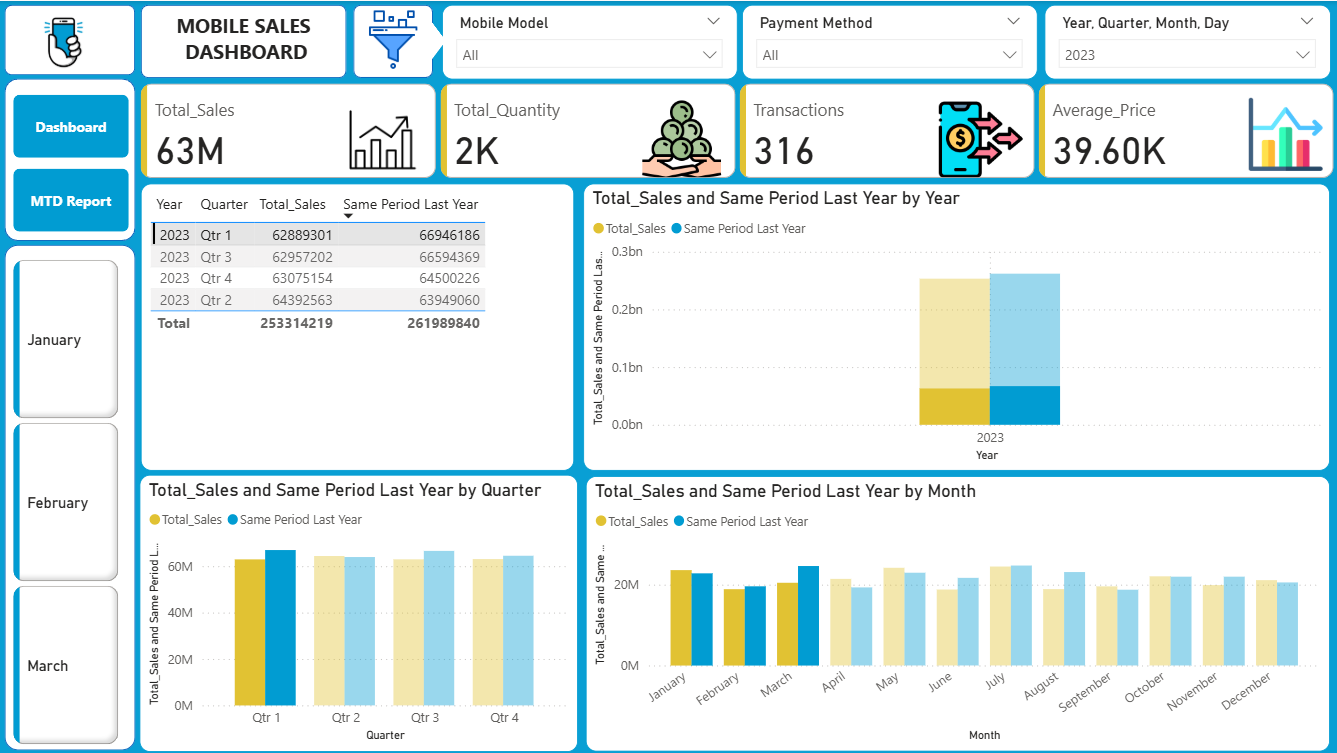

This screenshot's page, from the dashboard's own definition file:
{"tool":"powerbi","page":{"name":"Same Period Last Year","canvas":[1280,720],"ordinal":2},"visuals":[{"type":"shape","box":[7.5,3.8,125,67.5],"z":0},{"type":"image","box":[23.8,3.8,78.8,71.2],"z":1000},{"type":"shape","box":[7.5,73.8,125,155],"z":2000},{"type":"cardVisual","fields":{"Data":["Sales_Data.Total_Sales","Sales_Data.Total_Quantity","Sales_Data.Transactions","Sales_Data.Average_Price"]},"box":[132.5,73.8,1147.5,100],"z":3000},{"type":"slicer","fields":{"Values":["Sales_Data.Mobile Model"]},"box":[423.8,3.8,281.2,71.2],"z":4000},{"type":"slicer","fields":{"Values":["Sales_Data.Payment Method"]},"box":[710,3.8,281.2,71.2],"z":5000},{"type":"slicer","fields":{"Values":["Custom_Calendar.Date.Variation.Date Hierarchy.Year","Custom_Calendar.Date.Variation.Date Hierarchy.Quarter","Custom_Calendar.Date.Variation.Date Hierarchy.Month","Custom_Calendar.Date.Variation.Date Hierarchy.Day"]},"box":[997.5,3.8,272.5,71.2],"z":6000},{"type":"shape","box":[338.8,3.8,76.2,70],"z":7000},{"type":"image","box":[337.5,3.8,81.2,66.2],"z":8000},{"type":"shape","box":[397.5,17.5,30,40],"z":9000},{"type":"shape","box":[137.5,3.8,196.2,70],"z":10000},{"type":"textbox","box":[156.2,6.2,162.5,63.8],"z":11000},{"type":"shape","box":[7.5,232.5,125,481.2],"z":12000},{"type":"advancedSlicerVisual","fields":{"Values":["Custom_Calendar.Date.Variation.Date Hierarchy.Month"]},"box":[11.2,241.2,110,472.5],"z":13000},{"type":"tableEx","fields":{"Values":["Custom_Calendar.Date.Variation.Date Hierarchy.Year","Custom_Calendar.Date.Variation.Date Hierarchy.Quarter","Sales_Data.Total_Sales","Sales_Data.Same Period Last Year"]},"box":[137.5,173.8,412.5,273.8],"z":14000},{"type":"clusteredColumnChart","fields":{"Category":["Custom_Calendar.Date.Variation.Date Hierarchy.Year","Custom_Calendar.Date.Variation.Date Hierarchy.Quarter"],"Y":["Sales_Data.Total_Sales","Sales_Data.Same Period Last Year"]},"box":[558.8,173.8,711.2,273.8],"z":15000},{"type":"clusteredColumnChart","fields":{"Y":["Sales_Data.Total_Sales","Sales_Data.Same Period Last Year"],"Category":["Custom_Calendar.Date.Variation.Date Hierarchy.Year","Custom_Calendar.Date.Variation.Date Hierarchy.Quarter","Custom_Calendar.Date.Variation.Date Hierarchy.Month","Custom_Calendar.Date.Variation.Date Hierarchy.Day"]},"box":[561.2,452.5,708.8,262.5],"z":16000},{"type":"clusteredColumnChart","fields":{"Category":["Custom_Calendar.Date.Variation.Date Hierarchy.Year","Custom_Calendar.Date.Variation.Date Hierarchy.Quarter"],"Y":["Sales_Data.Total_Sales","Sales_Data.Same Period Last Year"]},"box":[136.2,451.2,417.5,263.8],"z":17000},{"type":"pageNavigator","box":[15,88.8,110,130],"z":18000}]}

Visuals, with their boxes in screenshot pixels (x1, y1, x2, y2), scaled from the page's 1280x720 canvas onto the 1337x753 screenshot:
shape: <bbox>8, 4, 138, 75</bbox>
image: <bbox>25, 4, 107, 78</bbox>
shape: <bbox>8, 77, 138, 239</bbox>
cardVisual - Sales_Data.Total_Sales x Sales_Data.Total_Quantity: <bbox>138, 77, 1336, 182</bbox>
slicer - Sales_Data.Mobile Model: <bbox>443, 4, 736, 78</bbox>
slicer - Sales_Data.Payment Method: <bbox>742, 4, 1035, 78</bbox>
slicer - Custom_Calendar.Date.Variation.Date Hierarchy.Year x Custom_Calendar.Date.Variation.Date Hierarchy.Quarter: <bbox>1042, 4, 1327, 78</bbox>
shape: <bbox>354, 4, 433, 77</bbox>
image: <bbox>353, 4, 437, 73</bbox>
shape: <bbox>415, 18, 447, 60</bbox>
shape: <bbox>144, 4, 349, 77</bbox>
textbox: <bbox>163, 6, 333, 73</bbox>
shape: <bbox>8, 243, 138, 746</bbox>
advancedSlicerVisual - Custom_Calendar.Date.Variation.Date Hierarchy.Month: <bbox>12, 252, 127, 746</bbox>
tableEx - Custom_Calendar.Date.Variation.Date Hierarchy.Year x Custom_Calendar.Date.Variation.Date Hierarchy.Quarter: <bbox>144, 182, 574, 468</bbox>
clusteredColumnChart - Custom_Calendar.Date.Variation.Date Hierarchy.Year x Custom_Calendar.Date.Variation.Date Hierarchy.Quarter: <bbox>584, 182, 1327, 468</bbox>
clusteredColumnChart - Sales_Data.Total_Sales x Sales_Data.Same Period Last Year: <bbox>586, 473, 1327, 748</bbox>
clusteredColumnChart - Custom_Calendar.Date.Variation.Date Hierarchy.Year x Custom_Calendar.Date.Variation.Date Hierarchy.Quarter: <bbox>142, 472, 578, 748</bbox>
pageNavigator: <bbox>16, 93, 131, 229</bbox>
